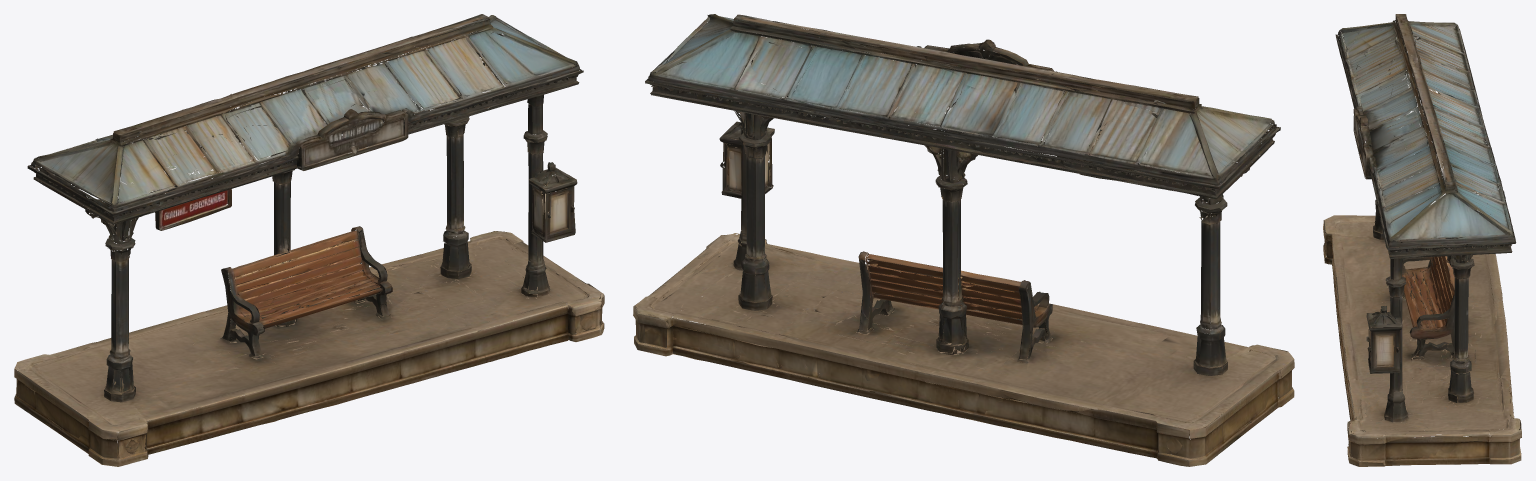
The model's file is ch03_open_air_station.glb.
3 views of the same model, side by side, from view 1: azimuth 30°, elevation 25°; view 2: azimuth 150°, elevation 25°; view 3: azimuth 270°, elevation 25° (orthographic). The views are drawn at different scales.
Visible parts, largest first — view 1: material; view 2: material; view 3: material.
Part boxes in pixels (x1,y1,x2,y2): material: (14,14,604,466); material: (633,14,1294,466); material: (1323,14,1521,466).
Size of the model in its own units: 1.02 by 0.55 by 0.3875.
Materials: 1 (1 with a texture image).
